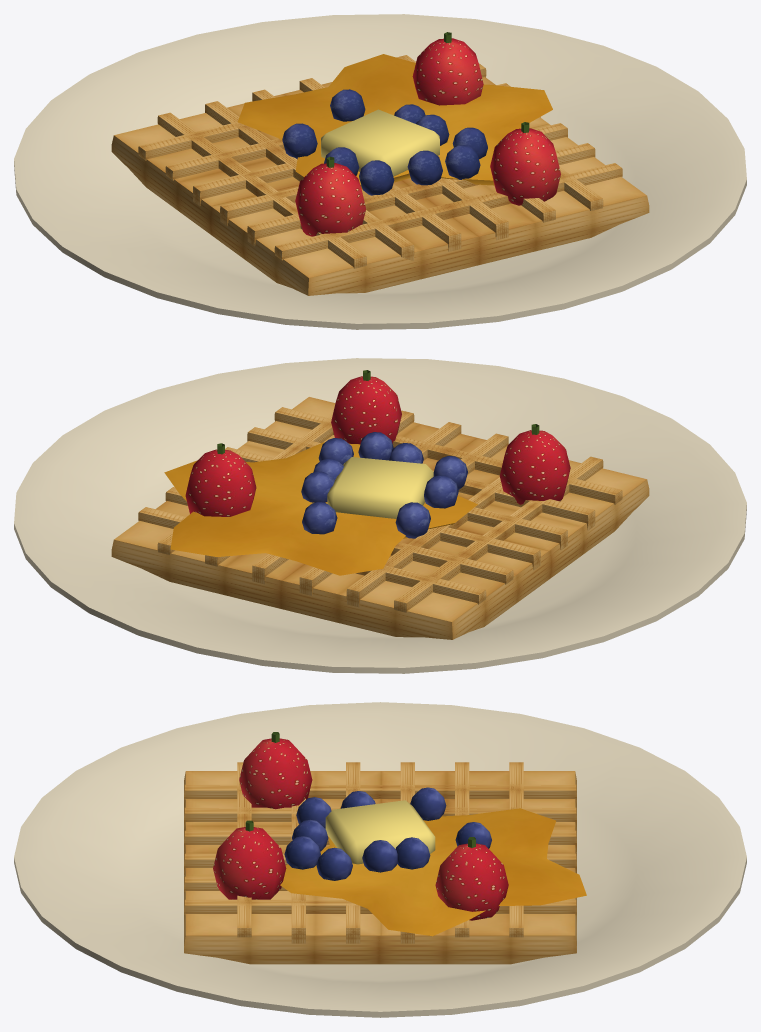
File: bakery_waffle_berries.glb
3 views of the same model, one above another, from view 1: azimuth 30°, elevation 25°; view 2: azimuth 150°, elevation 25°; view 3: azimuth 270°, elevation 25° (orthographic).
Visible parts, largest first — view 1: bakery_waffle_berries; view 2: bakery_waffle_berries; view 3: bakery_waffle_berries.
Part boxes in pixels (x1,y1,x2,y2): bakery_waffle_berries: (14, 14, 746, 329); bakery_waffle_berries: (14, 358, 746, 673); bakery_waffle_berries: (14, 702, 746, 1017).
Bounding box in the file's own units: 0.28 × 0.0506 × 0.28.
7 materials, 4 textured.
